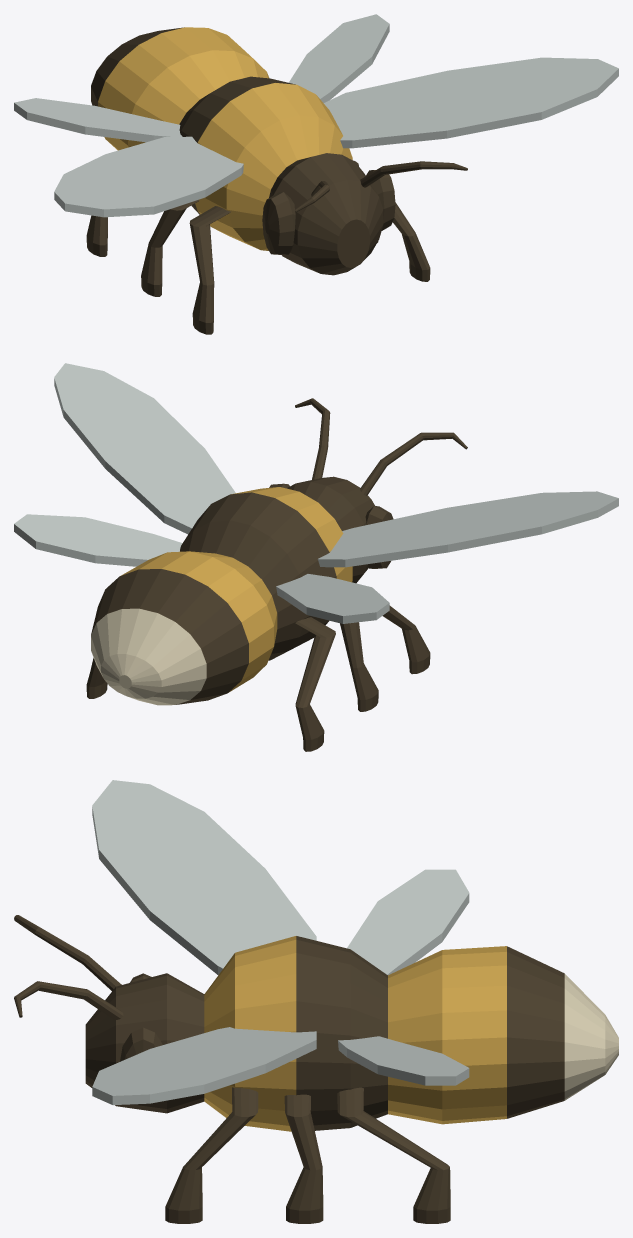
The picture shows the model from 3 angles, top to bottom: view 1: azimuth 30°, elevation 25°; view 2: azimuth 150°, elevation 25°; view 3: azimuth 270°, elevation 25°; orthographic projection. The views are drawn at different scales.
Parts seen in each view (by area): view 1: WholeRoundedHeadStoutThoraxAndBulbousAbdomen, WholeLongSweptOvalForewing1, WholeLongSweptOvalForewing0, WholeShortRearWing1, WholeShortRearWing0, WholeBentBeeLegAndFiniteToe0_0, WholeLargeBeeLateralEye0, WholeBentBeeLegAndFiniteToe0_1, WholeBentBeeLegAndFiniteToe1_0, WholeCurvedBeeAntenna1, WholeLargeBeeLateralEye1, WholeBentBeeLegAndFiniteToe0_2; view 2: WholeRoundedHeadStoutThoraxAndBulbousAbdomen, WholeLongSweptOvalForewing1, WholeLongSweptOvalForewing0, WholeShortRearWing1, WholeShortRearWing0, WholeBentBeeLegAndFiniteToe0_2, WholeBentBeeLegAndFiniteToe0_1, WholeBentBeeLegAndFiniteToe0_0, WholeCurvedBeeAntenna0, WholeCurvedBeeAntenna1, WholeBentBeeLegAndFiniteToe1_2; view 3: WholeRoundedHeadStoutThoraxAndBulbousAbdomen, WholeLongSweptOvalForewing0, WholeLongSweptOvalForewing1, WholeShortRearWing0, WholeShortRearWing1, WholeBentBeeLegAndFiniteToe1_2, WholeBentBeeLegAndFiniteToe1_0, WholeBentBeeLegAndFiniteToe1_1, WholeCurvedBeeAntenna1, WholeCurvedBeeAntenna0, WholeLargeBeeLateralEye1.
Part boxes in pixels (x1,y1,x2,y2): WholeRoundedHeadStoutThoraxAndBulbousAbdomen: [91, 27, 383, 275]; WholeLongSweptOvalForewing1: [324, 57, 618, 148]; WholeLongSweptOvalForewing0: [54, 136, 243, 217]; WholeShortRearWing1: [288, 14, 389, 103]; WholeShortRearWing0: [14, 98, 182, 142]; WholeBentBeeLegAndFiniteToe0_0: [189, 206, 230, 334]; WholeLargeBeeLateralEye0: [262, 192, 295, 255]; WholeBentBeeLegAndFiniteToe0_1: [141, 199, 199, 296]; WholeBentBeeLegAndFiniteToe1_0: [393, 202, 430, 281]; WholeCurvedBeeAntenna1: [360, 161, 467, 187]; WholeLargeBeeLateralEye1: [366, 170, 395, 230]; WholeBentBeeLegAndFiniteToe0_2: [86, 215, 107, 256]; WholeRoundedHeadStoutThoraxAndBulbousAbdomen: [91, 476, 374, 705]; WholeLongSweptOvalForewing1: [54, 363, 235, 534]; WholeLongSweptOvalForewing0: [317, 491, 618, 567]; WholeShortRearWing1: [14, 514, 182, 566]; WholeShortRearWing0: [276, 574, 389, 623]; WholeBentBeeLegAndFiniteToe0_2: [295, 617, 335, 751]; WholeBentBeeLegAndFiniteToe0_1: [340, 622, 378, 711]; WholeBentBeeLegAndFiniteToe0_0: [352, 582, 430, 674]; WholeCurvedBeeAntenna0: [360, 432, 467, 495]; WholeCurvedBeeAntenna1: [295, 398, 330, 479]; WholeBentBeeLegAndFiniteToe1_2: [86, 658, 107, 698]; WholeRoundedHeadStoutThoraxAndBulbousAbdomen: [85, 936, 618, 1131]; WholeLongSweptOvalForewing0: [92, 780, 316, 974]; WholeLongSweptOvalForewing1: [92, 1027, 316, 1105]; WholeShortRearWing0: [347, 869, 469, 975]; WholeShortRearWing1: [338, 1036, 469, 1085]; WholeBentBeeLegAndFiniteToe1_2: [337, 1087, 450, 1223]; WholeBentBeeLegAndFiniteToe1_0: [165, 1087, 258, 1223]; WholeBentBeeLegAndFiniteToe1_1: [284, 1094, 323, 1223]; WholeCurvedBeeAntenna1: [14, 981, 123, 1019]; WholeCurvedBeeAntenna0: [14, 915, 121, 990]; WholeLargeBeeLateralEye1: [120, 1027, 162, 1061].
Bounding box in the file's own units: 2.2 × 0.717 × 1.78.
